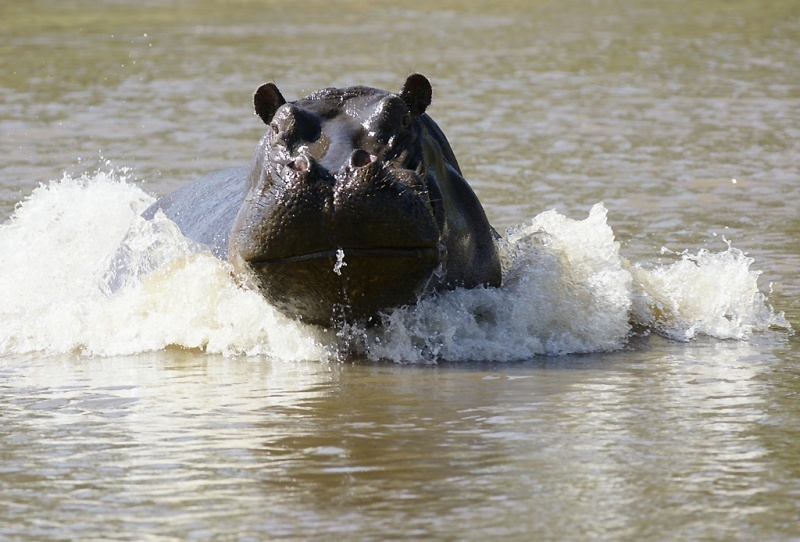hipopotamo: (97, 75, 511, 378)
